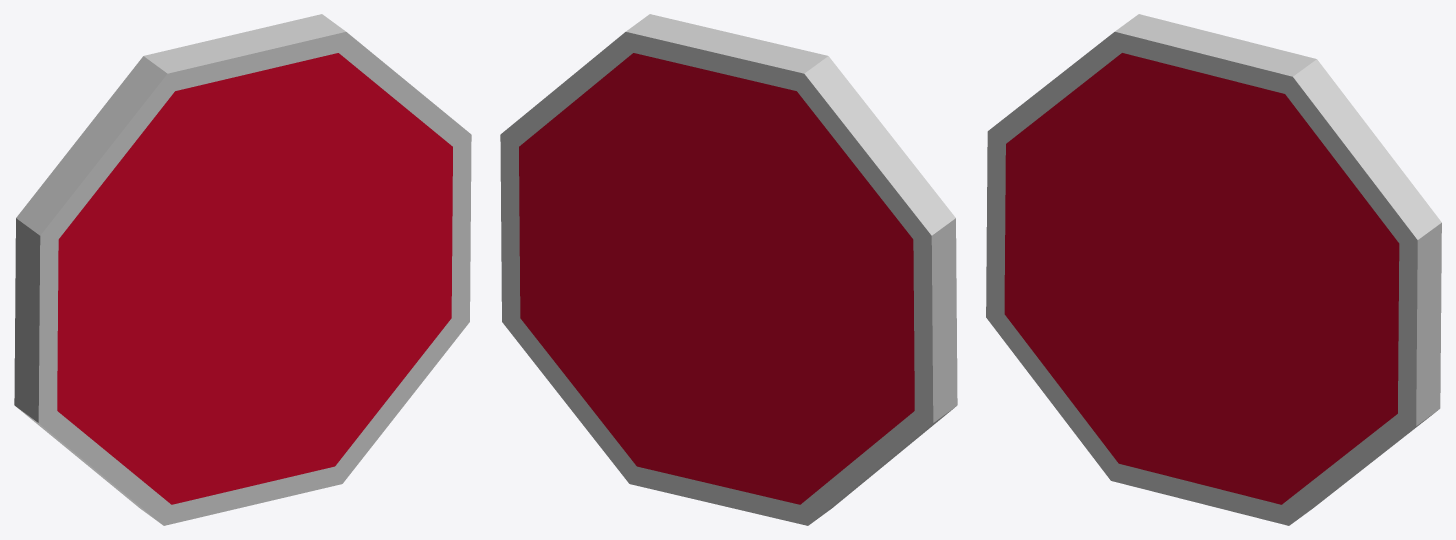
The model's file is runaway_items_stop_sign.fbx.
3 renders of one model, left to right at view 1: azimuth 30°, elevation 25°; view 2: azimuth 150°, elevation 25°; view 3: azimuth 330°, elevation 25°, orthographic.
Parts seen in each view (by area): view 1: Cylinder; view 2: Cylinder; view 3: Cylinder.
Boxes of the visible parts, x1=… form: Cylinder: x1=14, y1=14, x2=471, y2=525; Cylinder: x1=500, y1=14, x2=957, y2=525; Cylinder: x1=986, y1=14, x2=1441, y2=525.
Bounding box in the file's own units: 83.45 × 83.45 × 8.1.
